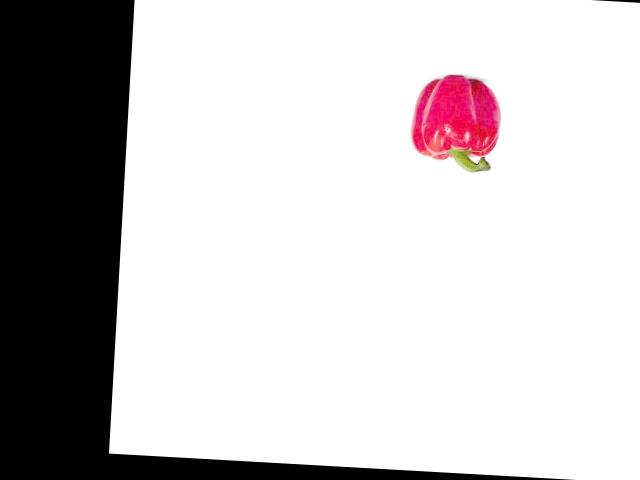bell_pepper: (403, 73, 505, 175)
